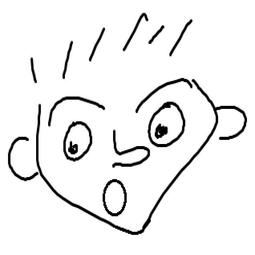ear: (5, 130, 43, 184), (210, 99, 249, 143)
eye: (145, 101, 188, 151), (58, 120, 97, 163)
frowning_eyebrow: (134, 76, 193, 113), (44, 93, 110, 123)
nose: (103, 127, 150, 169)
open_mouth: (99, 177, 131, 219)
